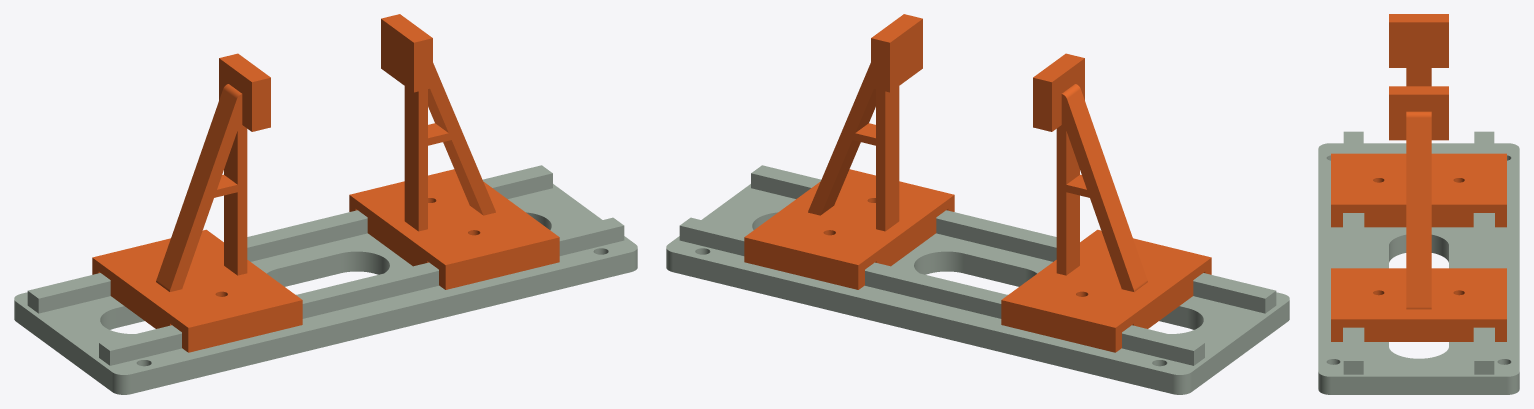
The picture shows the model from 3 angles, left to right: view 1: azimuth 30°, elevation 25°; view 2: azimuth 150°, elevation 25°; view 3: azimuth 270°, elevation 25°; orthographic projection. The views are drawn at different scales.
Visible parts, largest first — view 1: base, left, right; view 2: base, left, right; view 3: base, right, left.
Part boxes in pixels (x1,y1,x2,y2): base: [14, 165, 637, 394]; left: [92, 53, 302, 352]; right: [349, 14, 559, 289]; base: [666, 165, 1289, 394]; left: [1001, 53, 1211, 352]; right: [744, 14, 954, 289]; base: [1318, 131, 1519, 394]; right: [1331, 86, 1506, 341]; left: [1331, 14, 1506, 227].
Bounding box in the file's own units: 220 × 98.3 × 80.
